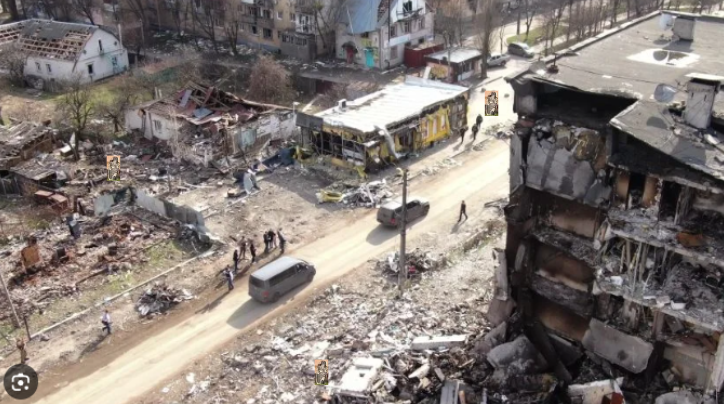HVT1: (487, 91, 497, 116), (109, 156, 119, 181)
